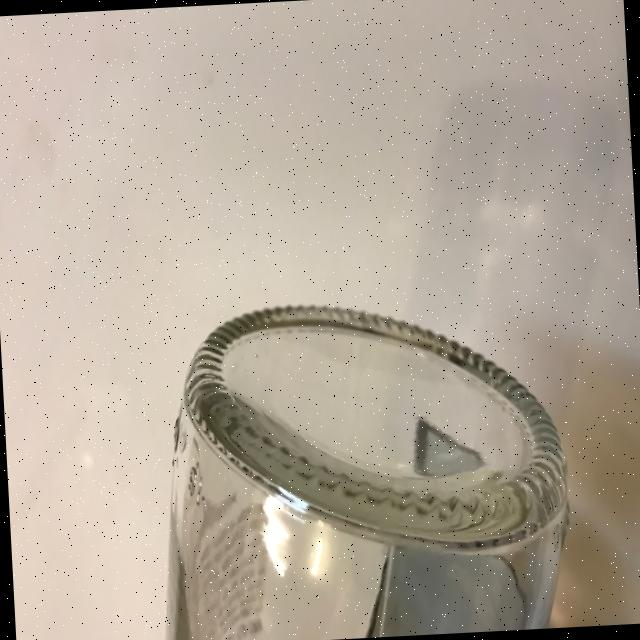glass: (147, 288, 577, 640)
